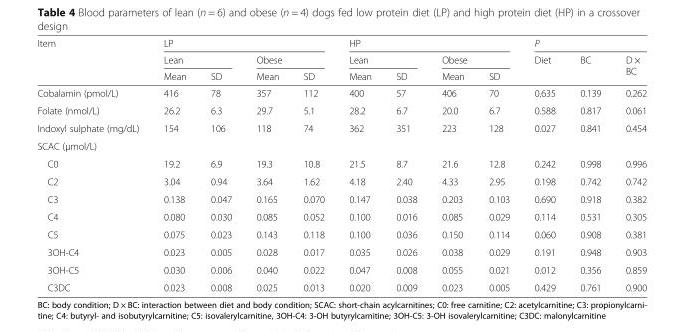table: (36, 37, 646, 292)
table column: (36, 37, 150, 292), (150, 37, 197, 292), (243, 37, 290, 292), (336, 37, 383, 292), (428, 37, 475, 292), (197, 37, 243, 292), (290, 37, 336, 292), (475, 37, 521, 292), (521, 37, 567, 292), (383, 37, 428, 292), (567, 37, 612, 292), (612, 37, 646, 292)
table column header: (36, 37, 646, 84)
table projected row header: (36, 136, 646, 154)
table row: (36, 101, 646, 119), (36, 136, 646, 154), (36, 154, 646, 172), (36, 189, 646, 207), (36, 207, 646, 225), (36, 225, 646, 243), (36, 260, 646, 278), (36, 50, 646, 67), (36, 67, 646, 84), (36, 84, 646, 101), (36, 119, 646, 136), (36, 172, 646, 189), (36, 243, 646, 260), (36, 278, 646, 292), (36, 37, 646, 50)
table spanning cell: (36, 37, 150, 84), (150, 37, 336, 50), (336, 37, 521, 50), (521, 37, 646, 50), (150, 50, 243, 67), (243, 50, 336, 67), (428, 50, 521, 67), (336, 50, 428, 67), (521, 50, 567, 84), (567, 50, 612, 84), (612, 50, 646, 84)
